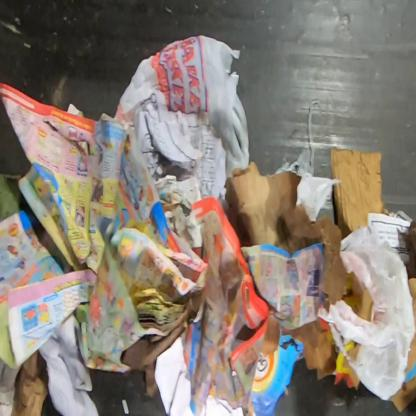cardboard: (224, 160, 373, 322), (121, 294, 202, 400), (283, 317, 361, 382), (330, 147, 385, 239), (245, 334, 305, 415), (390, 273, 415, 414), (11, 349, 49, 416), (260, 315, 280, 356)
soft_plastic: (118, 34, 251, 179), (316, 224, 416, 402), (274, 99, 342, 222)
